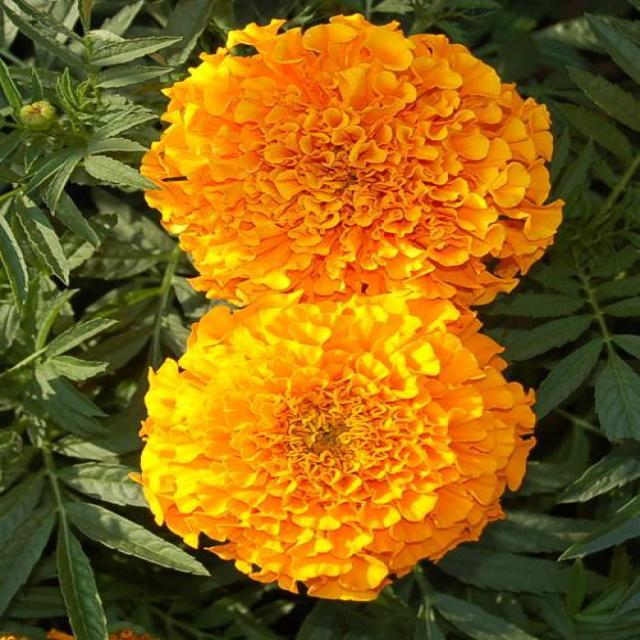marigold: (61, 24, 554, 598)
